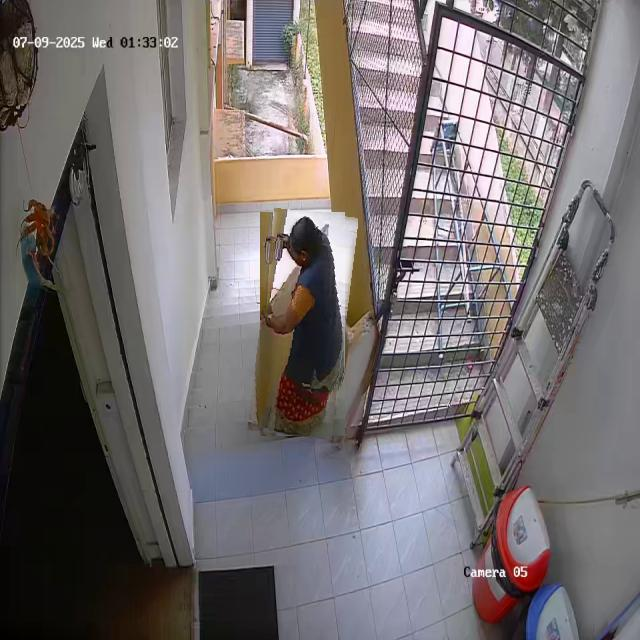person: (254, 210, 351, 438)
